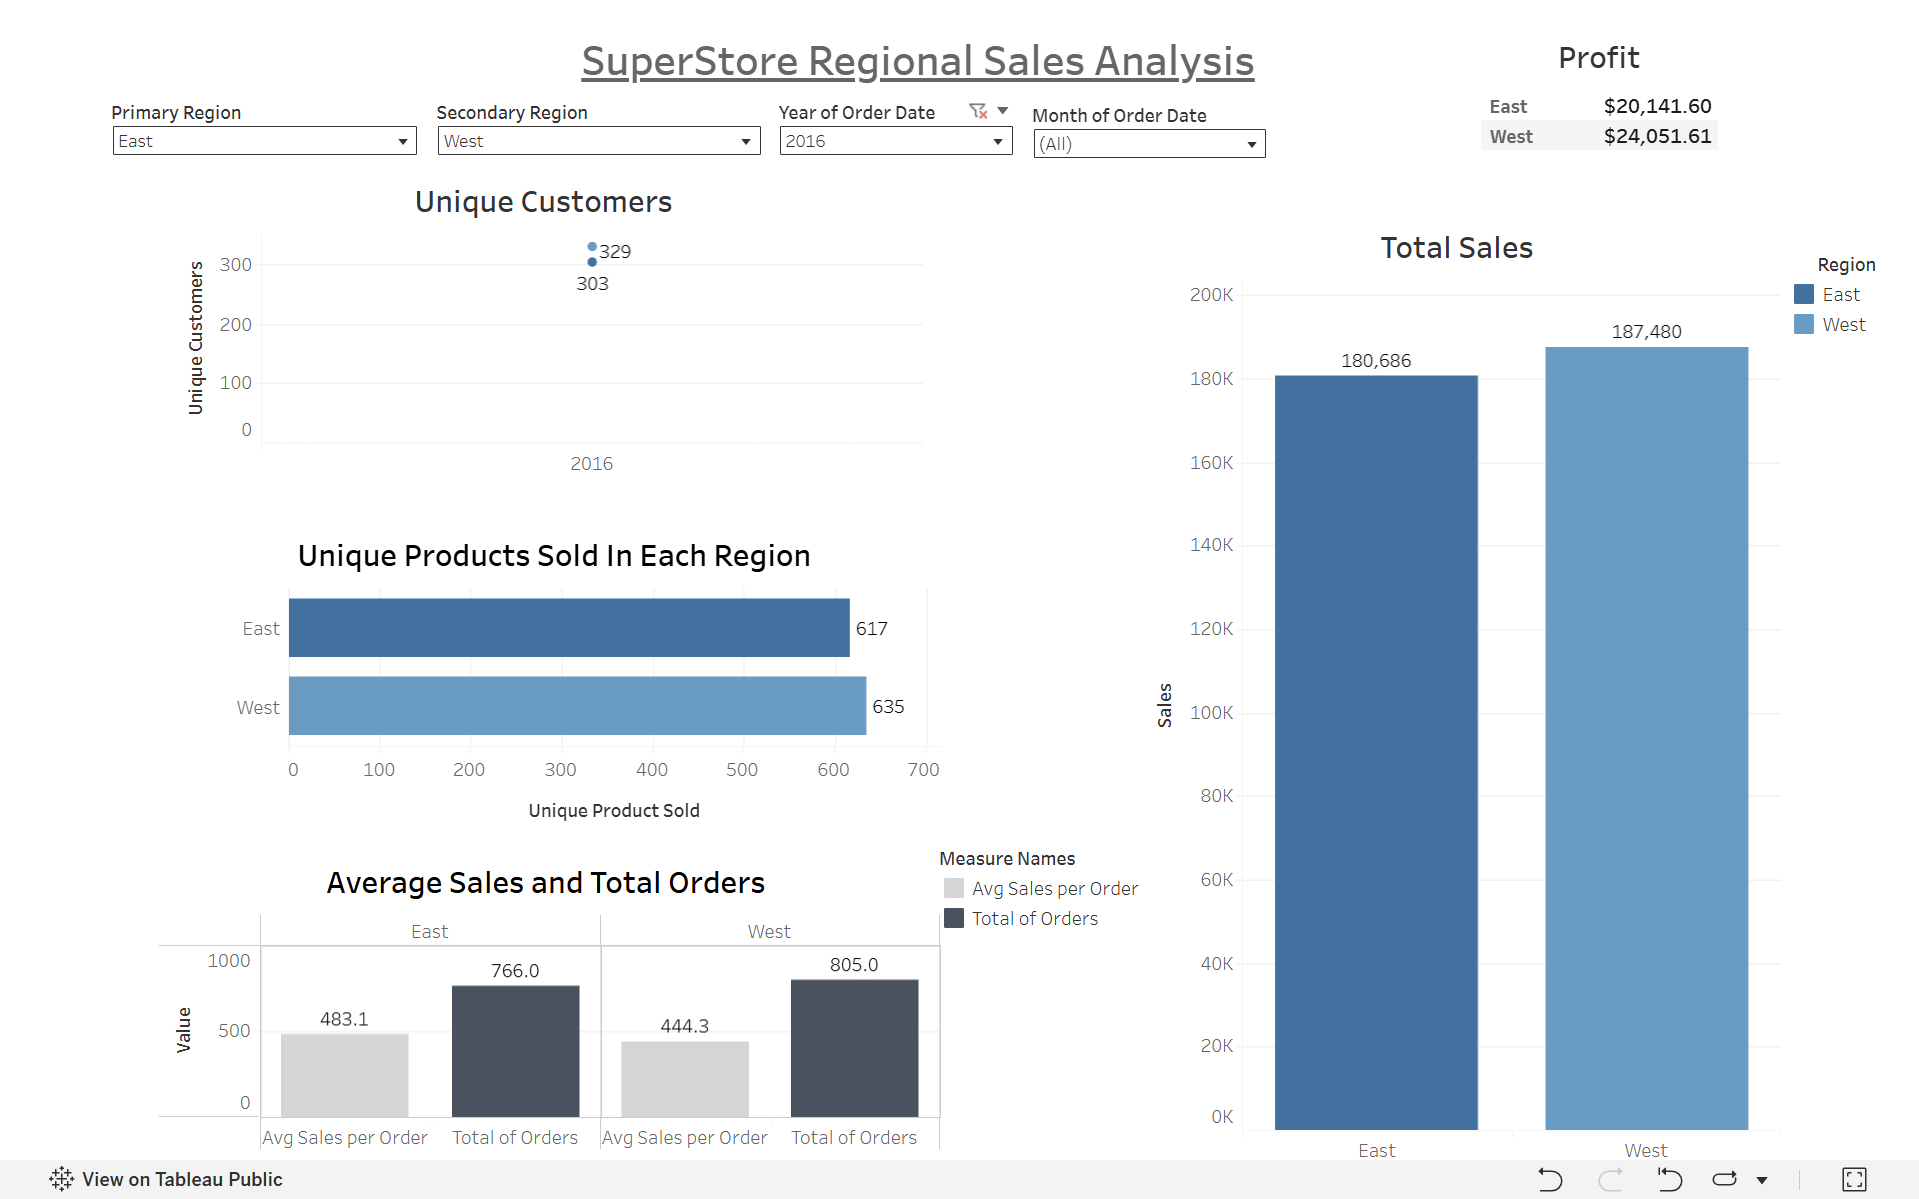

This screenshot's page, from the dashboard's own definition file:
{"tool":"tableau","page":{"name":"Dashboard 1","canvas":[1000,1000],"units":"permille","ordinal":0},"visuals":[{"type":"text","box":[242.8,6.3,470.7,87.8]},{"type":"worksheet","title":"Sheet 5","mark":"Automatic","rows":["Region"],"box":[770.9,21.9,171.7,167.7]},{"type":"parameter","param":"[Parameters].[Parameter 1]","box":[57.5,84.6,160.2,65.8]},{"type":"parameter","param":"[Parameters].[Parameter 2]","box":[227.6,84.6,169.3,73.7]},{"type":"filter","title":"Sheet 1","param":"[federated.16u9y2v0gbl93h18o0pgm0v2n4fz].[yr:Order Date:ok]","box":[405.4,84.6,122.6,75.2]},{"type":"filter","title":"Sheet 1","param":"[federated.16u9y2v0gbl93h18o0pgm0v2n4fz].[mn:Order Date:ok]","box":[537.2,86.2,122.6,75.2]},{"type":"worksheet","title":"Sheet 3","mark":"Automatic","rows":["Calculation_0014019557298286"],"cols":["Order Date"],"box":[88.9,145.8,391.6,264.9]},{"type":"worksheet","title":"Sheet 1","mark":"Automatic","rows":["Sales"],"cols":["Calculation_0014019552890979"],"box":[593.9,186.5,333.3,816.6]},{"type":"legend","title":"Sheet 1","param":"[federated.16u9y2v0gbl93h18o0pgm0v2n4fz].[none:Calculation_0014019552890979:nk]","box":[931.8,216.3,62.1,92.5]},{"type":"worksheet","title":"Sheet 4","mark":"Automatic","rows":["Calculation_0014019552890979"],"cols":["Calculation_0014019558559855"],"box":[87.4,451.4,402.3,264.9]},{"type":"legend","title":"Sheet 2","param":"[federated.16u9y2v0gbl93h18o0pgm0v2n4fz].[:Measure Names]","box":[488.9,728.8,118,127]},{"type":"worksheet","title":"Sheet 2","mark":"Automatic","cols":["Calculation_0014019552890979"],"box":[82.8,733.5,406.9,258.6]}]}

Visuals, with their boxes on the dashboard's canvas, which has no fixed pixel size, in thousandths of its width and height (x1, y1, x2, y2). These are canvas units, not pixel positions in the 1919x1199 screenshot, which may show the page scaled, cropped or inside an application window:
text: x1=243 y1=6 x2=714 y2=94
"Sheet 5" worksheet: x1=771 y1=22 x2=943 y2=190
parameter: x1=58 y1=85 x2=218 y2=150
parameter: x1=228 y1=85 x2=397 y2=158
"Sheet 1" filter: x1=405 y1=85 x2=528 y2=160
"Sheet 1" filter: x1=537 y1=86 x2=660 y2=161
"Sheet 3" worksheet: x1=89 y1=146 x2=480 y2=411
"Sheet 1" worksheet: x1=594 y1=186 x2=927 y2=1003
"Sheet 1" legend: x1=932 y1=216 x2=994 y2=309
"Sheet 4" worksheet: x1=87 y1=451 x2=490 y2=716
"Sheet 2" legend: x1=489 y1=729 x2=607 y2=856
"Sheet 2" worksheet: x1=83 y1=734 x2=490 y2=992
